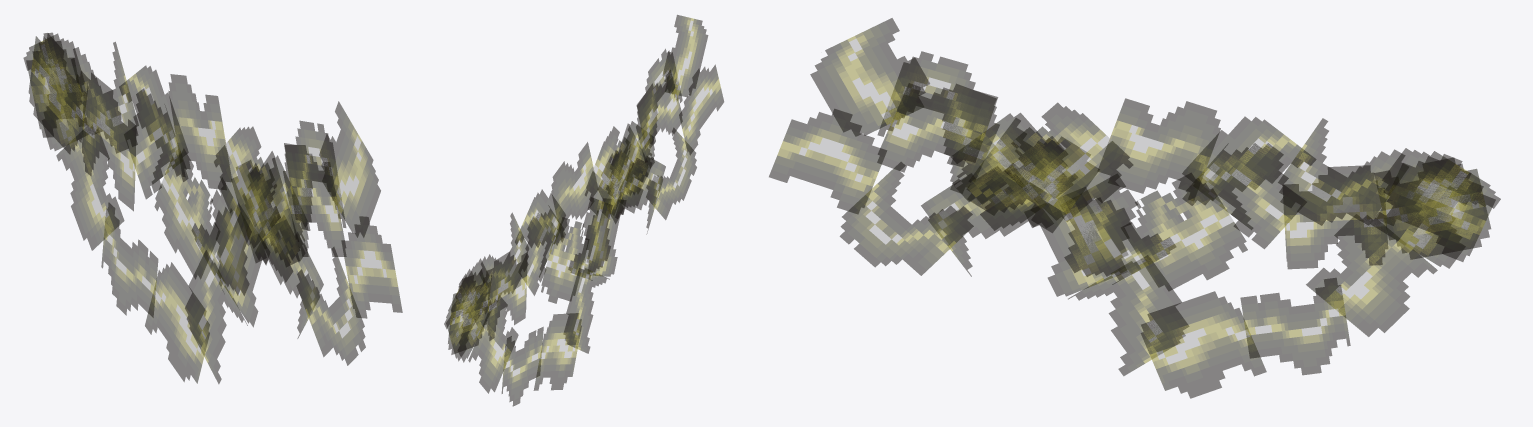
The model's file is 101_efe.gltf.
3 renders of one model, left to right at view 1: azimuth 30°, elevation 25°; view 2: azimuth 150°, elevation 25°; view 3: azimuth 270°, elevation 25°, orthographic. The views are drawn at different scales.
Size of the model in its own units: 0 by 345 by 597.
Materials: 1 (1 with a texture image).
